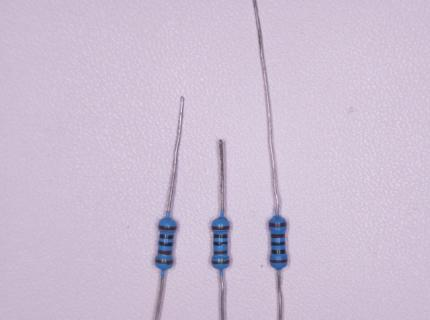Black band: (158, 241, 173, 247), (159, 234, 174, 239), (213, 241, 228, 246), (271, 250, 286, 255), (214, 234, 228, 239), (271, 242, 285, 246)
Brown band: (155, 259, 174, 265), (158, 225, 177, 231), (212, 260, 230, 265), (270, 259, 288, 264), (269, 223, 286, 228), (158, 249, 172, 255), (213, 250, 228, 255), (212, 226, 229, 230), (270, 234, 286, 238)
